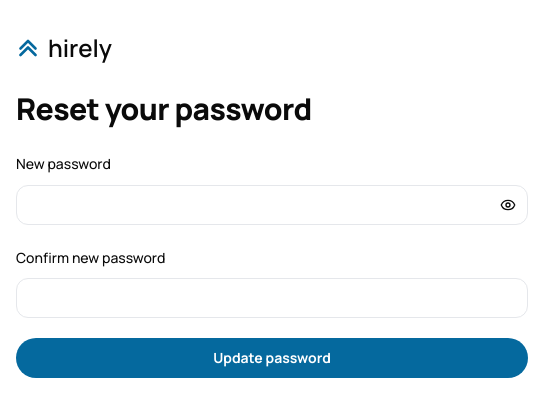
secure password reset › rejects mismatched passwords without sending an update
Type "safe-example-password" into the password field labelled "New password" at (272, 205), box left=16, top=185, right=528, bottom=225
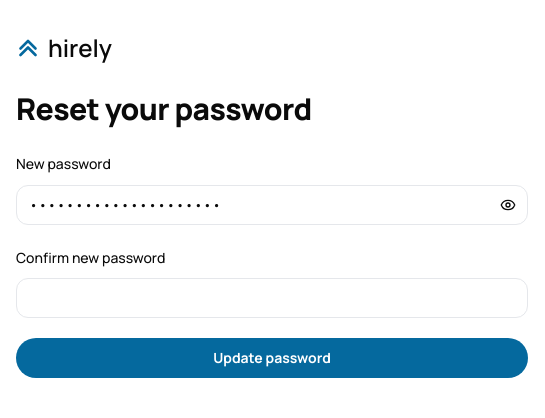
Type "different-password" into the password field labelled "Confirm new password" at (272, 298), box left=16, top=278, right=528, bottom=318
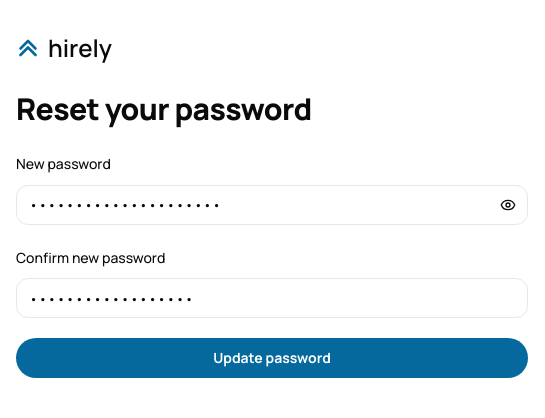
Click the button "Update password" at (272, 358), box left=16, top=338, right=528, bottom=378
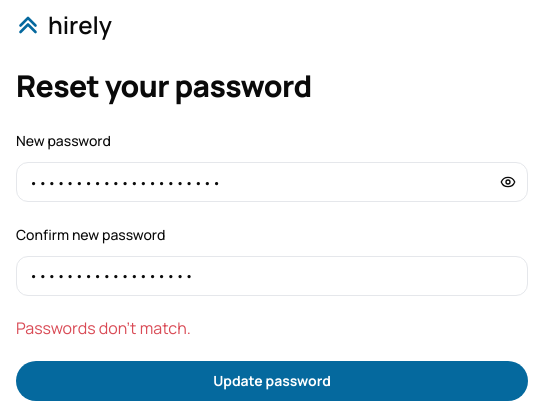
Check: the message reads "Passwords don't match.", box left=16, top=317, right=191, bottom=339
